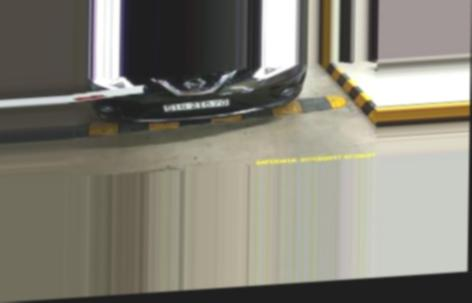License_Plate: (164, 97, 231, 114)
